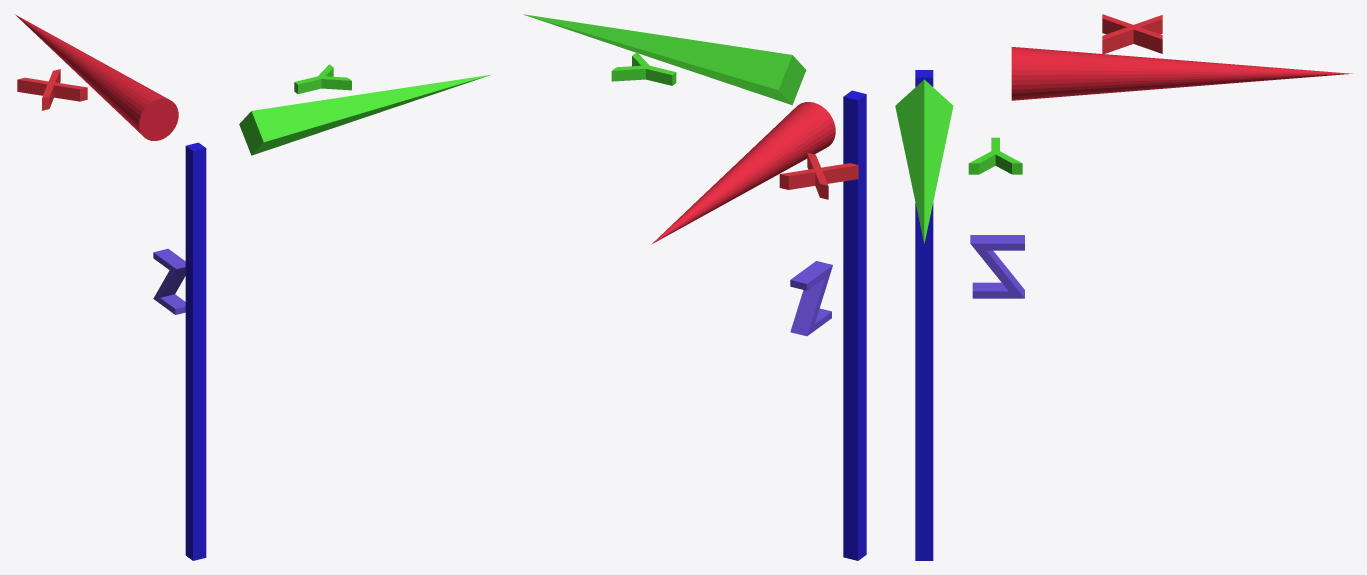
The model's file is coordinate2.fbx.
The picture shows the model from 3 angles, left to right: view 1: azimuth 30°, elevation 25°; view 2: azimuth 150°, elevation 25°; view 3: azimuth 270°, elevation 25°; orthographic projection. The views are drawn at different scales.
Visible parts, largest first — view 1: 立方体, 円錐.001, 円錐, テキスト.002, テキスト.001, テキスト; view 2: 立方体, 円錐.001, 円錐, テキスト.002, テキスト.001, テキスト; view 3: 円錐, 立方体, 円錐.001, テキスト.002, テキスト.001, テキスト.
Boxes of the visible parts, bbox=[...] form: 立方体: bbox=[185, 142, 206, 560]; 円錐.001: bbox=[239, 74, 491, 155]; 円錐: bbox=[15, 14, 178, 140]; テキスト.002: bbox=[153, 248, 185, 314]; テキスト.001: bbox=[17, 69, 87, 110]; テキスト: bbox=[294, 64, 351, 94]; 立方体: bbox=[843, 90, 866, 560]; 円錐.001: bbox=[523, 14, 806, 105]; 円錐: bbox=[651, 102, 835, 244]; テキスト.002: bbox=[790, 261, 832, 336]; テキスト.001: bbox=[779, 152, 858, 199]; テキスト: bbox=[611, 52, 676, 85]; 円錐: bbox=[1011, 47, 1352, 100]; 立方体: bbox=[915, 70, 933, 560]; 円錐.001: bbox=[895, 79, 953, 243]; テキスト.002: bbox=[970, 235, 1024, 298]; テキスト.001: bbox=[1102, 14, 1162, 53]; テキスト: bbox=[968, 137, 1022, 174].
Size of the model in its own units: 5.15 by 5.75 by 6.33.
